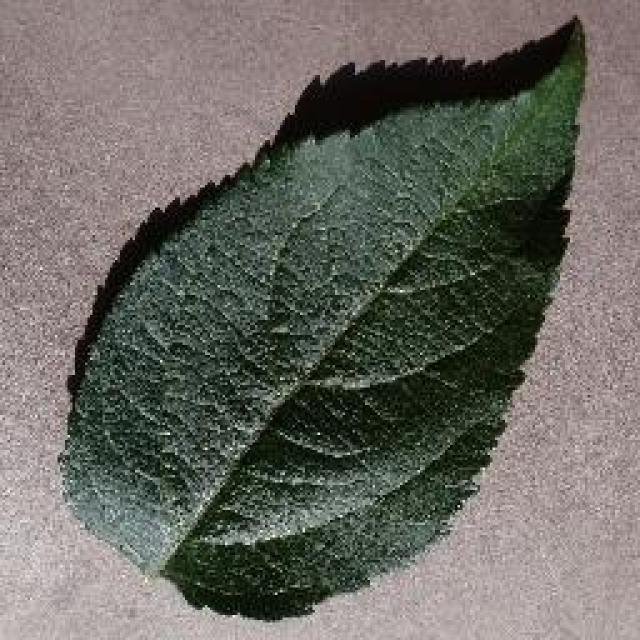apple healthy: (55, 12, 590, 622)
